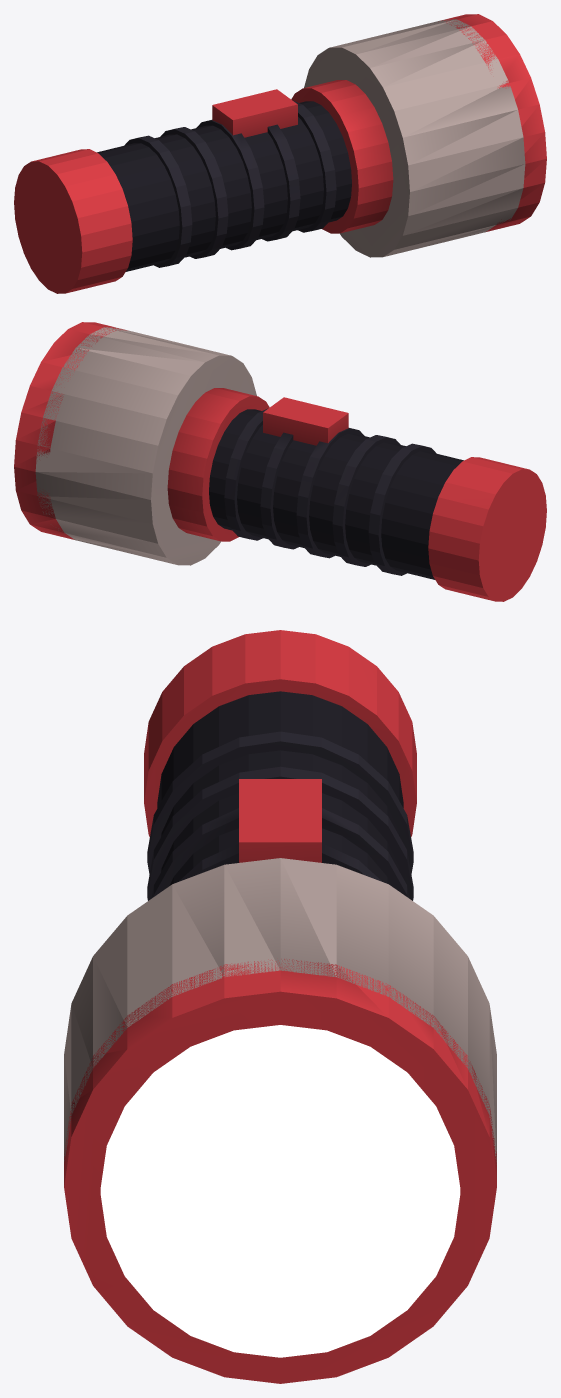
File: util.flashlight.glb
3 renders of one model, top to bottom at view 1: azimuth 30°, elevation 25°; view 2: azimuth 150°, elevation 25°; view 3: azimuth 270°, elevation 25°, orthographic. The views are drawn at different scales.
Parts seen in each view (by area): view 1: body; view 2: body; view 3: body.
Boxes of the visible parts, x1,y1,x2,y2 form: body: (14, 14, 546, 293); body: (14, 322, 546, 601); body: (64, 630, 496, 1383).
Size of the model in its own units: 0.3135 by 0.13 by 0.13.
